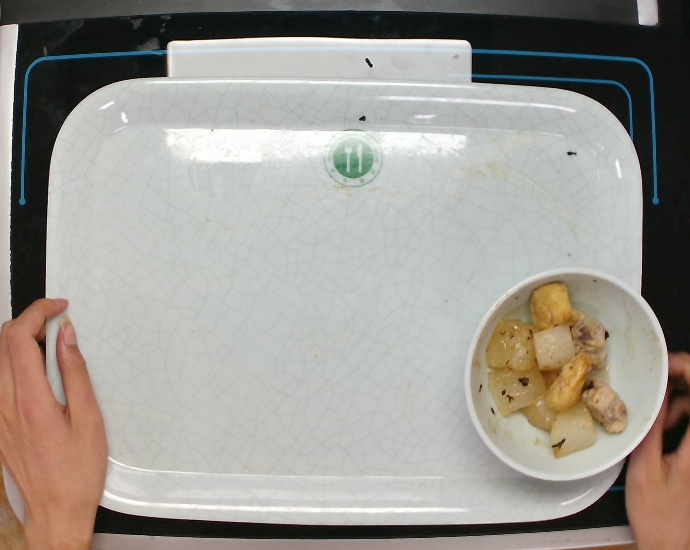JYsf-Fan_Wan: (466, 267, 669, 487)
